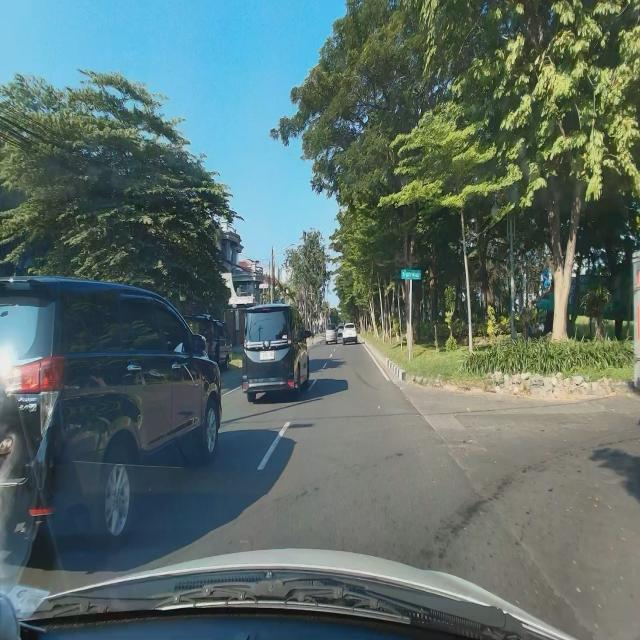car: (0, 264, 224, 552), (238, 297, 310, 408)
license-plate: (259, 349, 275, 361)
